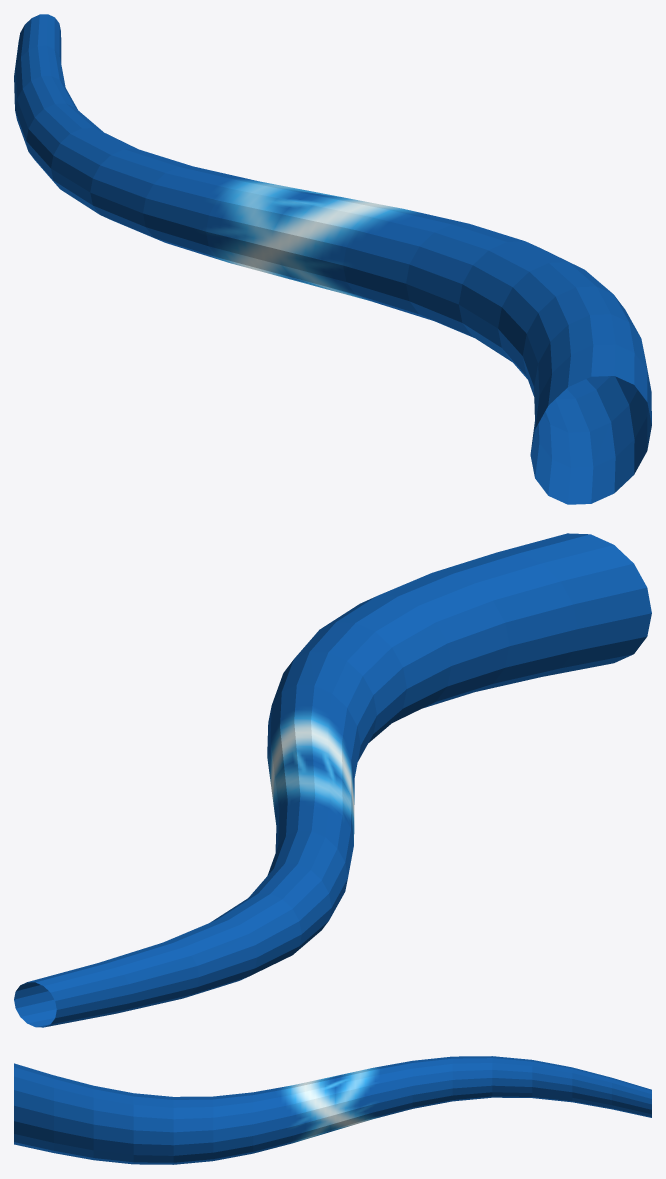
The model's file is vfx_tube.obj.
3 renders of one model, top to bottom at view 1: azimuth 30°, elevation 25°; view 2: azimuth 150°, elevation 25°; view 3: azimuth 270°, elevation 25°, orthographic. The views are drawn at different scales.
Bounding box in the file's own units: 0.629 × 0.28 × 2.2.
